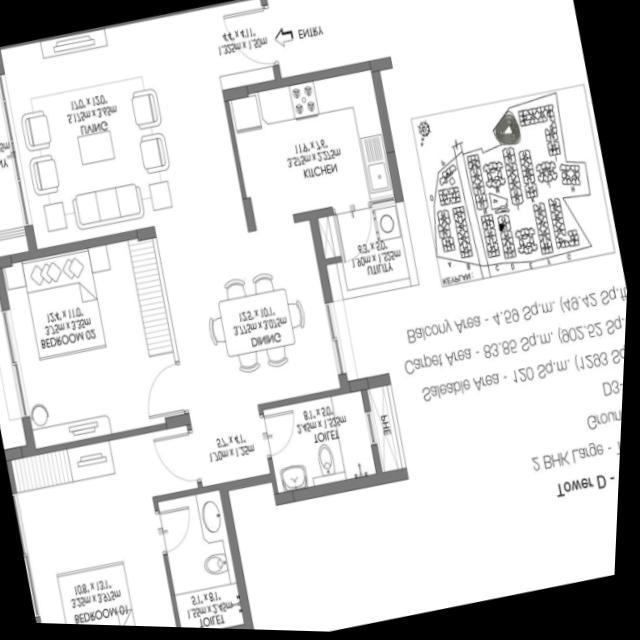Bedroom: (4, 235, 195, 453)
Bedroom with Toilet: (14, 424, 256, 631)
Dining: (199, 261, 328, 387)
Enterance-Foyer: (206, 0, 298, 103)
Kitchen: (230, 69, 401, 233)
Living: (2, 8, 249, 253)
Toilet: (160, 492, 252, 631), (265, 391, 382, 497)
Utility: (339, 203, 413, 292)
